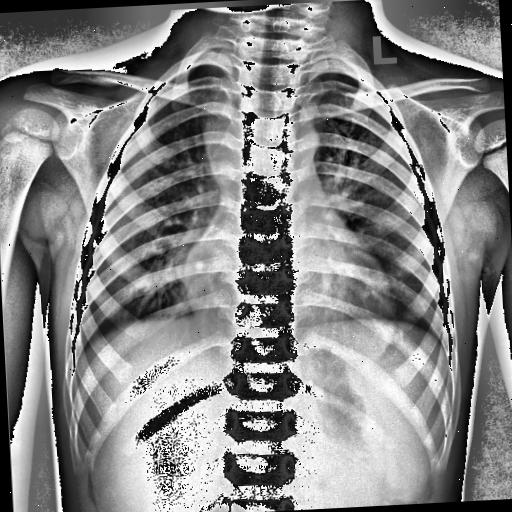3- Cardiomegaly: (180, 232, 394, 351)
7- Lung Opacity: (200, 103, 244, 193)
9- Other lesion: (203, 80, 247, 184), (200, 103, 244, 193), (202, 96, 244, 190)
